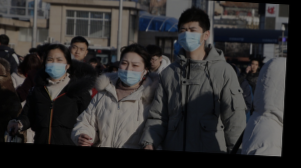with_mask: (117, 58, 145, 87), (177, 23, 205, 51), (43, 55, 69, 80)
without_mask: (70, 43, 86, 60), (149, 55, 161, 69), (252, 60, 260, 72)
